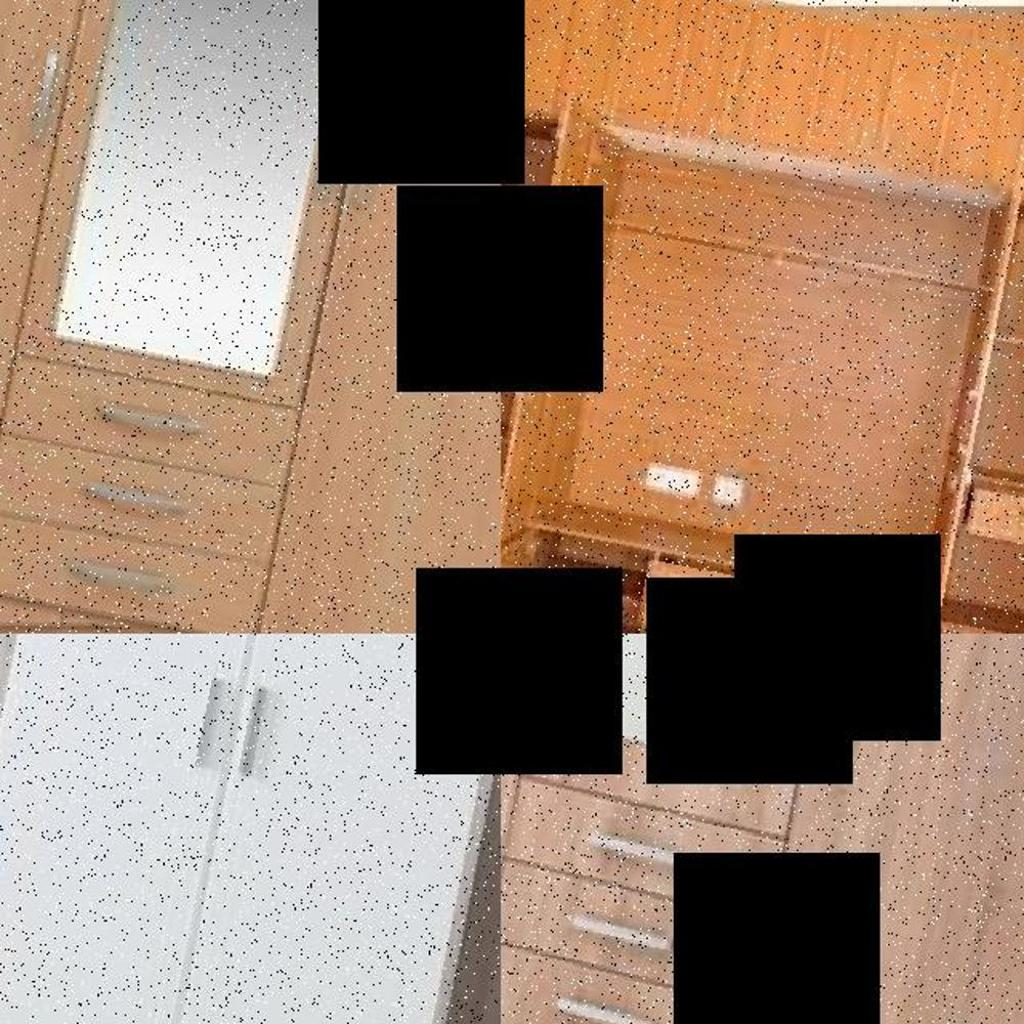cabinet: (501, 0, 1024, 634), (0, 0, 501, 634), (501, 634, 1024, 1024), (0, 634, 501, 1024)
